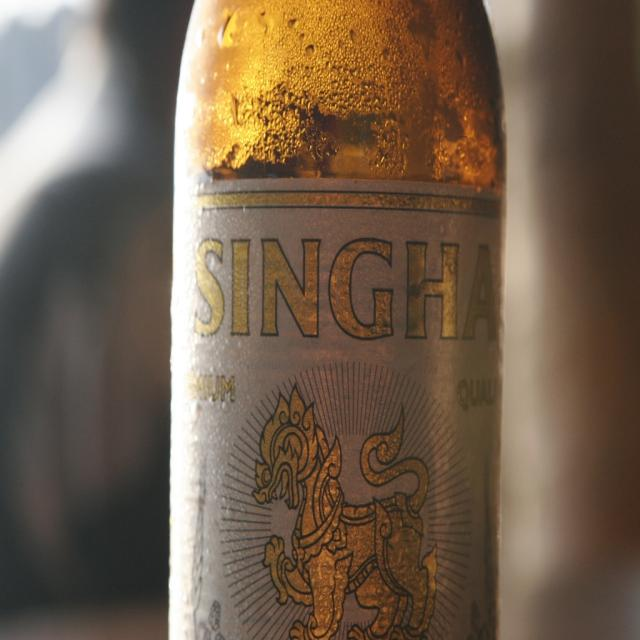singha: (167, 188, 509, 640)
